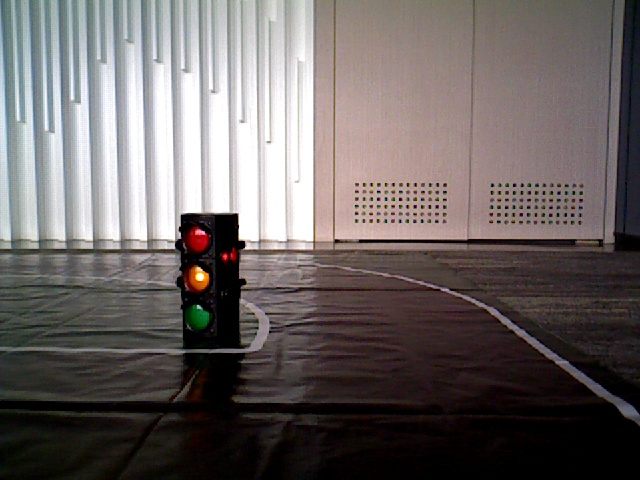yellow: (181, 215, 218, 332)
